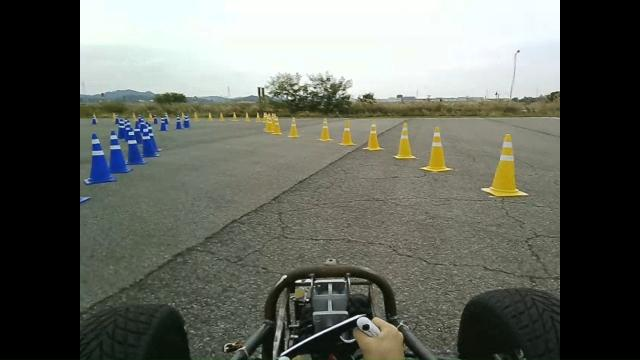blue cone: (84, 133, 117, 184), (108, 130, 132, 173), (142, 122, 162, 152), (182, 114, 190, 128)
yellow cone: (480, 132, 529, 197), (419, 126, 454, 172), (392, 122, 418, 160), (362, 119, 385, 151), (338, 118, 357, 146), (316, 117, 333, 142), (288, 116, 300, 138), (272, 122, 282, 135), (264, 118, 273, 132)
